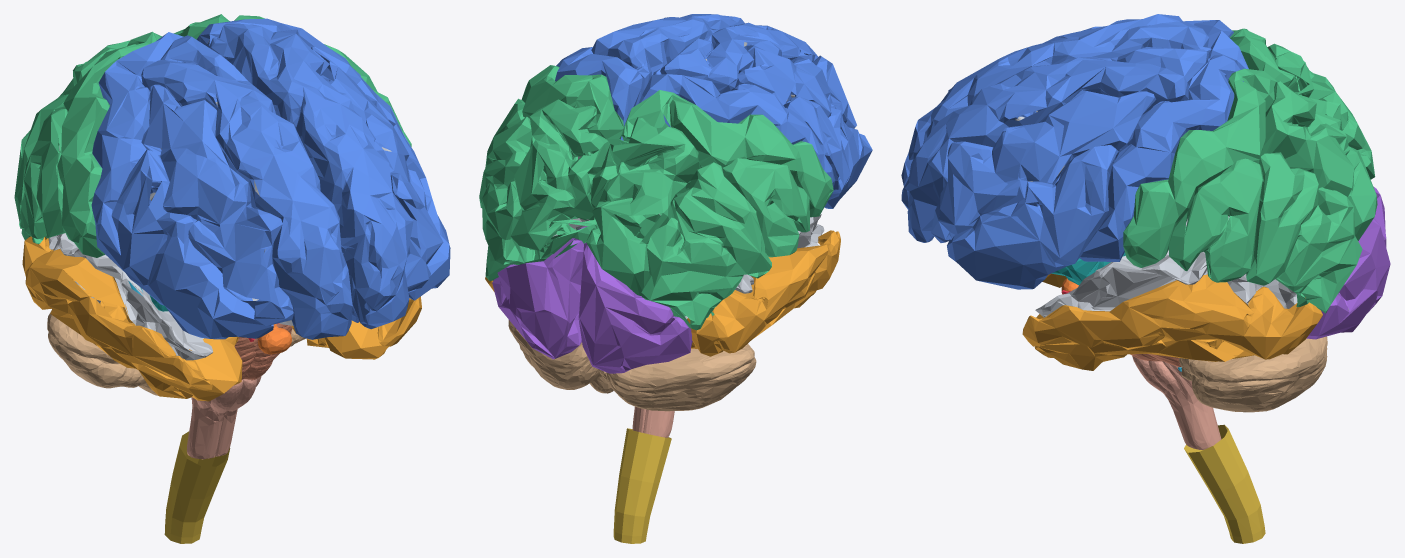
File: bodyparts3d-brain-only.glb
3 renders of one model, left to right at view 1: azimuth 30°, elevation 25°; view 2: azimuth 150°, elevation 25°; view 3: azimuth 270°, elevation 25°, orthographic. The views are drawn at different scales.
Parts seen in each view (by area): view 1: frontal_r, frontal_l, temporal_r, parietal_r, spinal_bridge, deep_r, cerebellum, medulla, temporal_l, pons, parietal_l, pituitary; view 2: parietal_r, parietal_l, frontal_r, cerebellum, occipital_r, temporal_r, frontal_l, occipital_l, spinal_bridge, medulla, deep_r; view 3: frontal_l, parietal_l, temporal_l, frontal_r, cerebellum, deep_l, parietal_r, spinal_bridge, occipital_l, medulla, insula_l.
Boxes of the visible parts, x1,y1,x2,y2 form: frontal_r: (91,32,352,339); frontal_l: (196,18,450,329); temporal_r: (22,236,242,401); parietal_r: (14,31,161,257); spinal_bridge: (164,431,230,543); deep_r: (48,96,293,360); cerebellum: (47,312,305,395); medulla: (187,376,261,459); temporal_l: (291,296,421,359); pons: (234,323,292,380); parietal_l: (174,14,411,146); pituitary: (257,324,291,354); parietal_r: (586,90,833,330); parietal_l: (479,65,623,280); frontal_r: (638,22,872,208); cerebellum: (508,320,756,411); occipital_r: (578,243,692,373); temporal_r: (687,230,840,356); frontal_l: (555,14,744,140); occipital_l: (492,226,587,359); spinal_bridge: (613,428,671,543); medulla: (632,406,674,437); deep_r: (659,42,824,319); frontal_l: (901,47,1243,289); parietal_l: (1123,68,1377,313); temporal_l: (1022,274,1322,370); frontal_r: (901,14,1248,186); cerebellum: (1179,336,1327,412); deep_l: (1015,111,1348,317); parietal_r: (1230,28,1375,179); spinal_bridge: (1184,424,1265,543); occipital_l: (1306,217,1390,339); medulla: (1132,356,1221,449); insula_l: (1051,252,1125,285).
Size of the model in its own units: 0.1394 by 0.205 by 0.1809.
